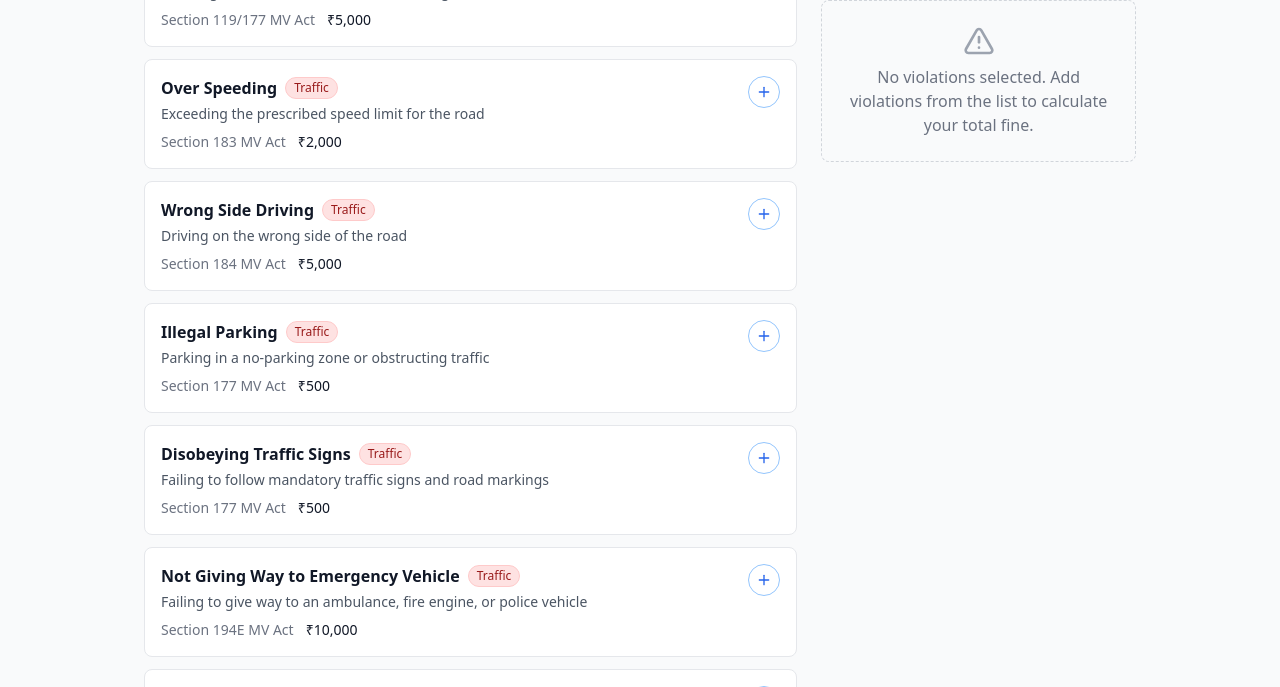
Test: FineCalculator › increments violation count on multiple adds
The image size is (1280, 687).
(page scrolled)
Click the button named "Add Illegal Parking" at x=764, y=336, box [748,320,780,352]
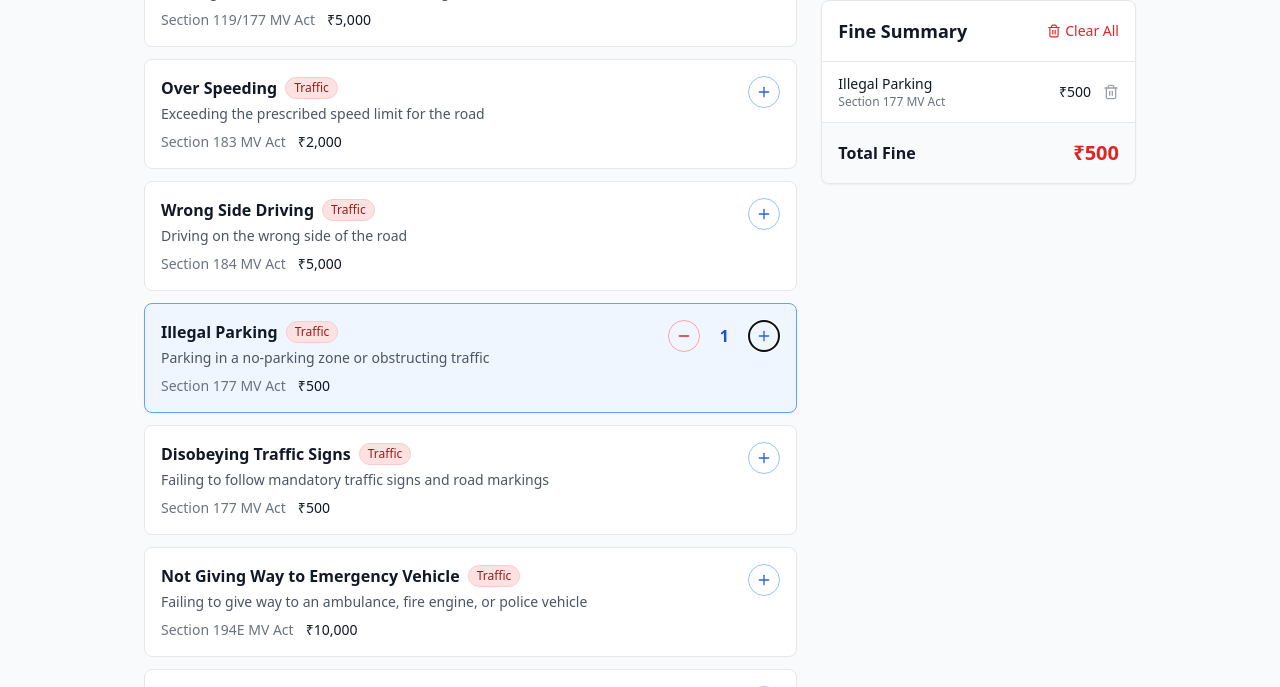
Click the button named "Add Illegal Parking" at x=764, y=336, box [748,320,780,352]
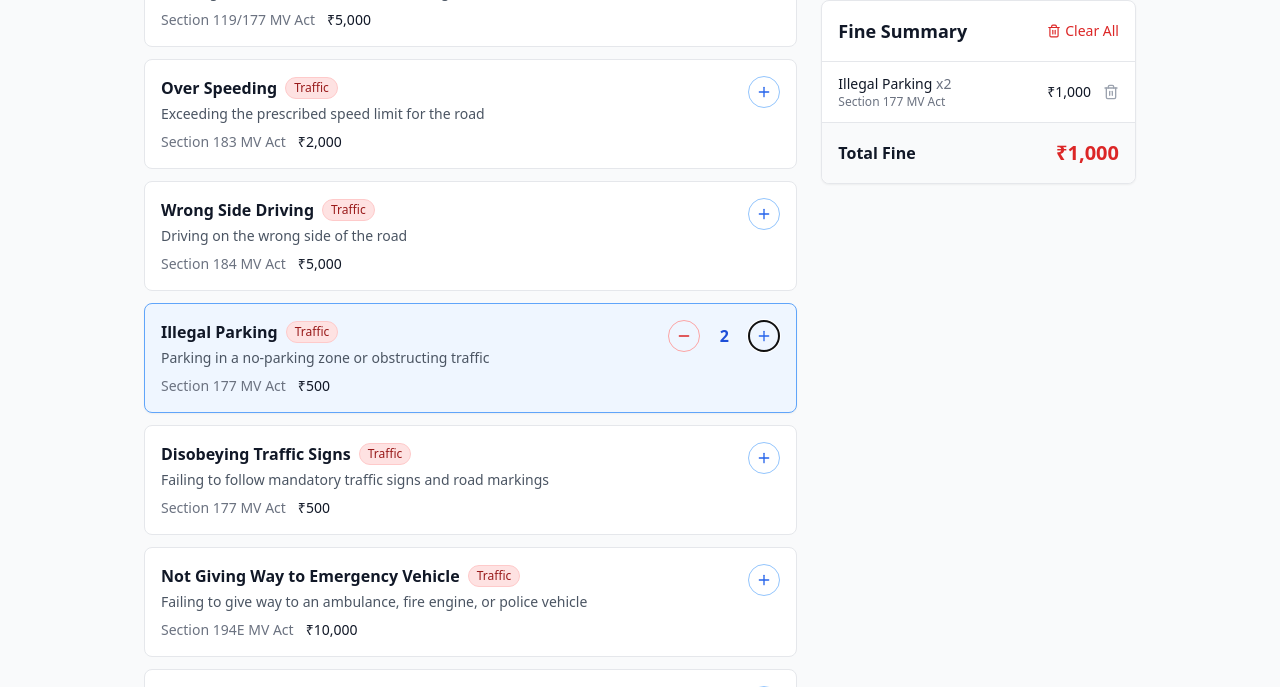
Now the text named "Illegal Parking selected 2 times" reads "2", box [720,325,729,347]
